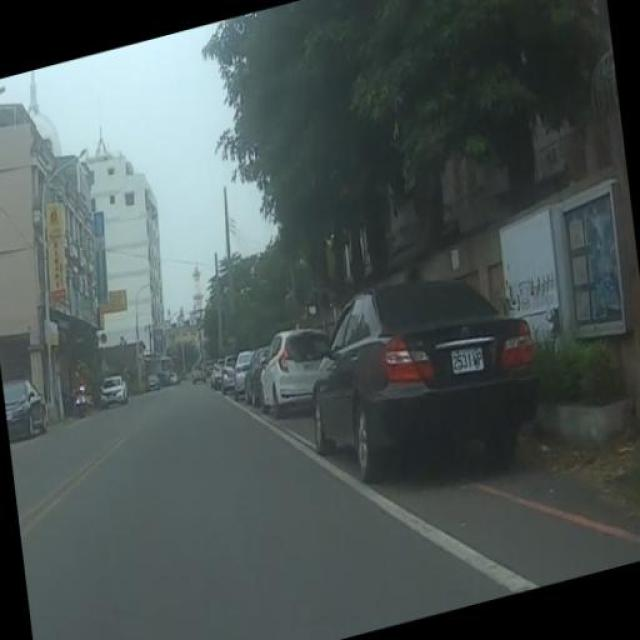Legalparking: (186, 289, 566, 459)
